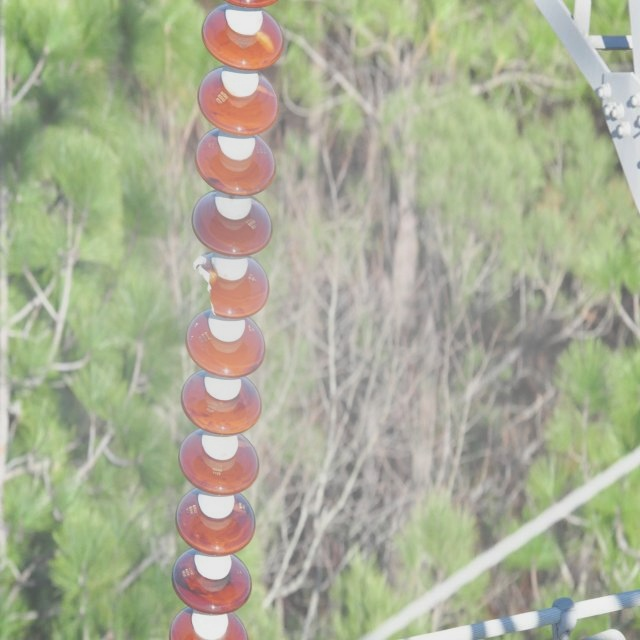broken: (192, 252, 220, 317)
insulator: (166, 0, 284, 638)
